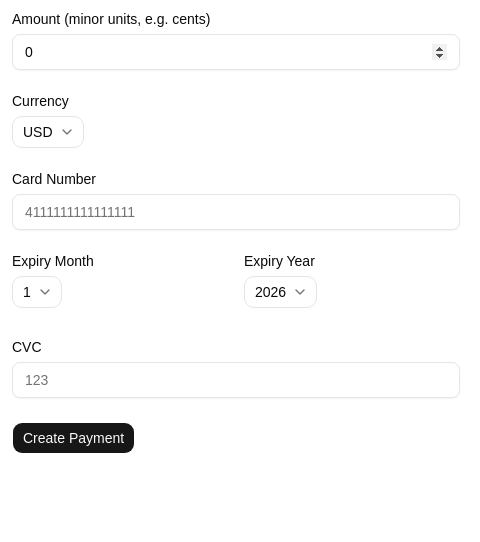
Test: CreatePaymentForm › shows error when amount is negative
Step 1. Replace the text in the number field labelled "Amount (minor units, e.g. cents)" with "-100" → (236, 52), box [12, 34, 460, 70]
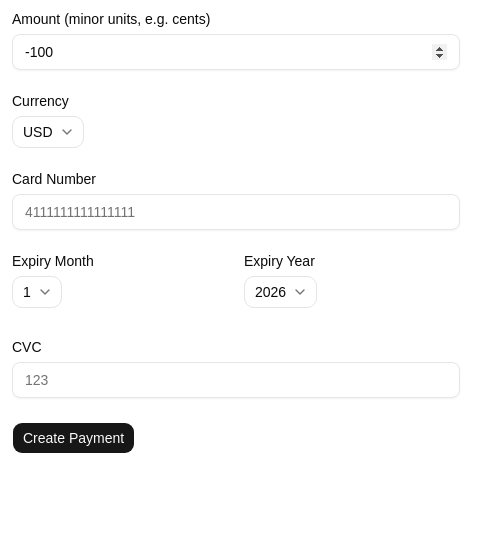
Step 2. Click the button → (74, 438), box [12, 422, 135, 454]
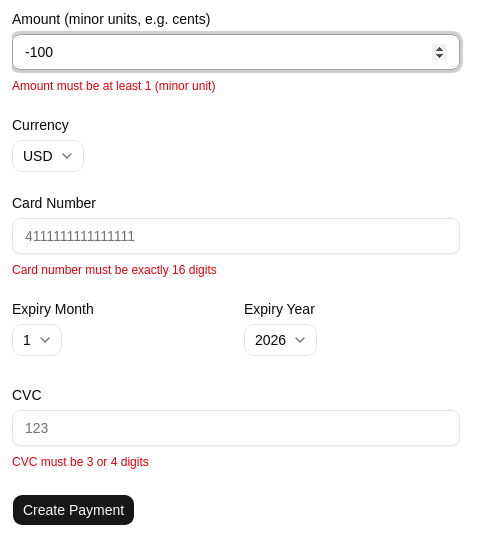
Now the text "Amount must be at least 1 (minor unit)" is shown, box [12, 79, 215, 93]
